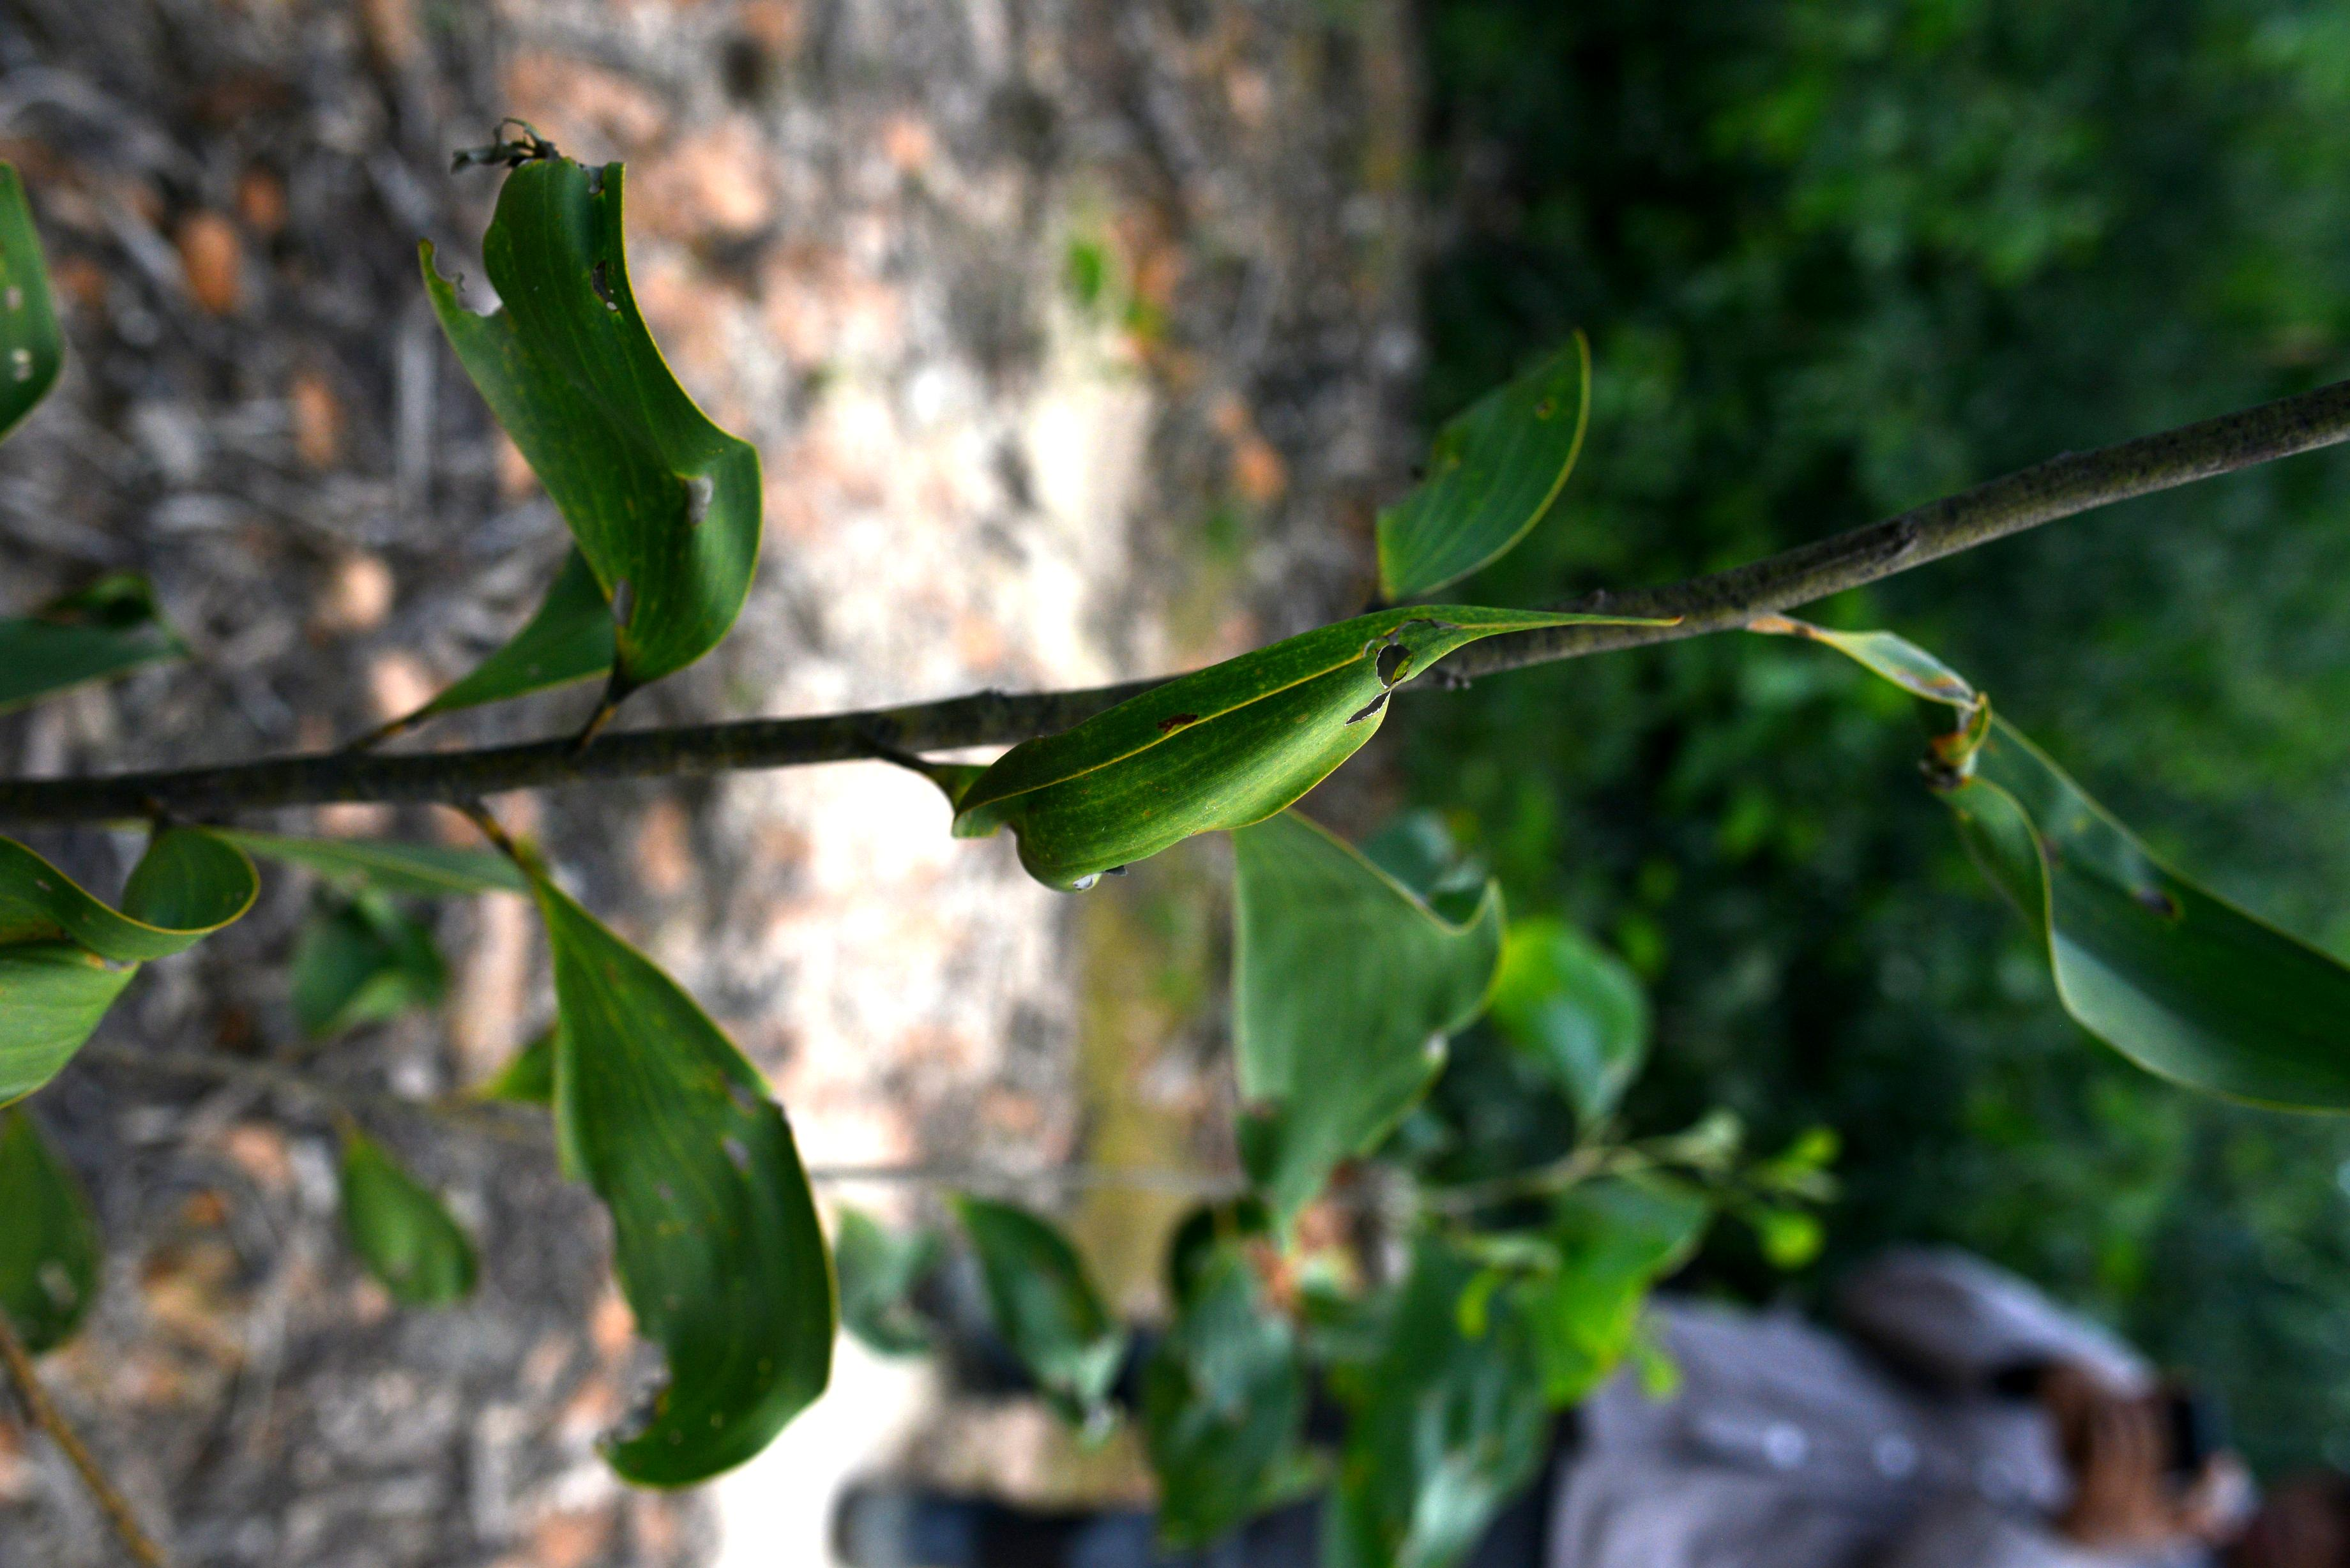Pasalora: (950, 334, 1687, 891), (1779, 594, 2350, 1113), (518, 878, 896, 1500), (409, 112, 773, 712), (0, 827, 278, 1127), (1520, 1147, 1715, 1429)
